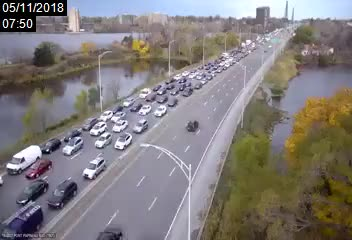congestion: (3, 120, 129, 227), (80, 82, 177, 140), (153, 60, 216, 92), (200, 53, 236, 68)
personal_car: (1, 201, 43, 239), (7, 144, 43, 173), (49, 179, 78, 209), (16, 180, 48, 205), (99, 216, 122, 240), (26, 159, 54, 178), (84, 157, 106, 178), (61, 138, 84, 155), (113, 133, 134, 151), (94, 131, 113, 148), (41, 139, 61, 155), (131, 117, 149, 133), (65, 127, 83, 141), (90, 121, 107, 135), (113, 118, 128, 133), (185, 119, 200, 134), (153, 105, 169, 118), (83, 115, 95, 132), (112, 108, 126, 122), (138, 104, 150, 117), (123, 96, 136, 107), (100, 109, 111, 122), (167, 96, 179, 107), (138, 88, 150, 98), (155, 94, 167, 104), (110, 104, 122, 114), (182, 87, 192, 98), (131, 102, 141, 112), (145, 92, 156, 101), (168, 87, 179, 95), (193, 73, 204, 80), (193, 81, 202, 89), (177, 82, 186, 90), (172, 72, 180, 80), (153, 83, 161, 91), (157, 87, 166, 94), (203, 74, 212, 80), (177, 77, 187, 82), (165, 77, 172, 84), (184, 80, 191, 87), (187, 72, 195, 78), (181, 70, 188, 76)
